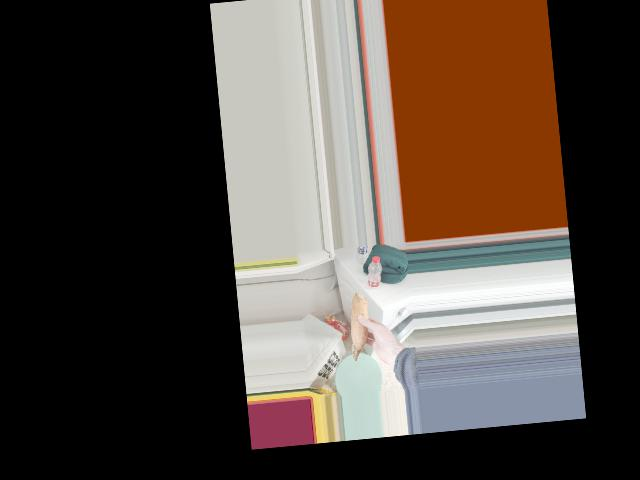sweet_potato: (347, 296, 372, 363)
